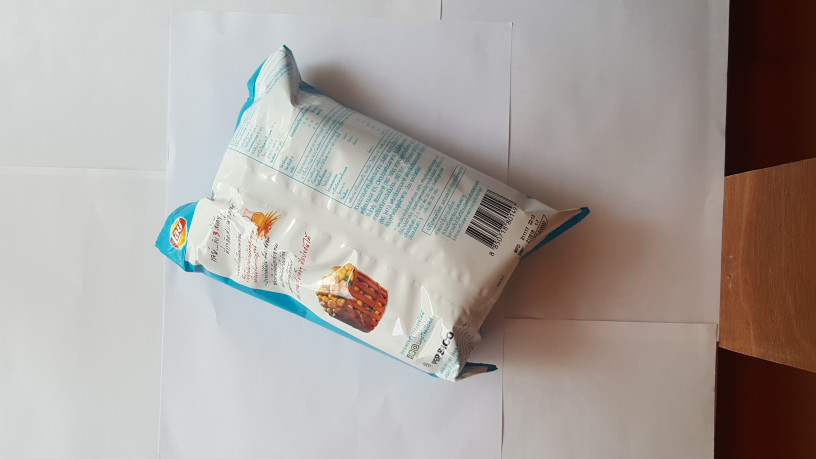lays-onion: (144, 28, 608, 391)
